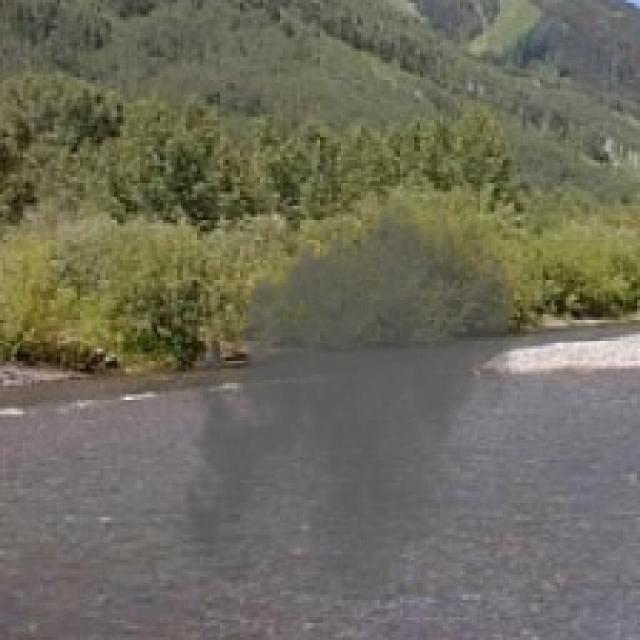smoke: (171, 183, 523, 600)
